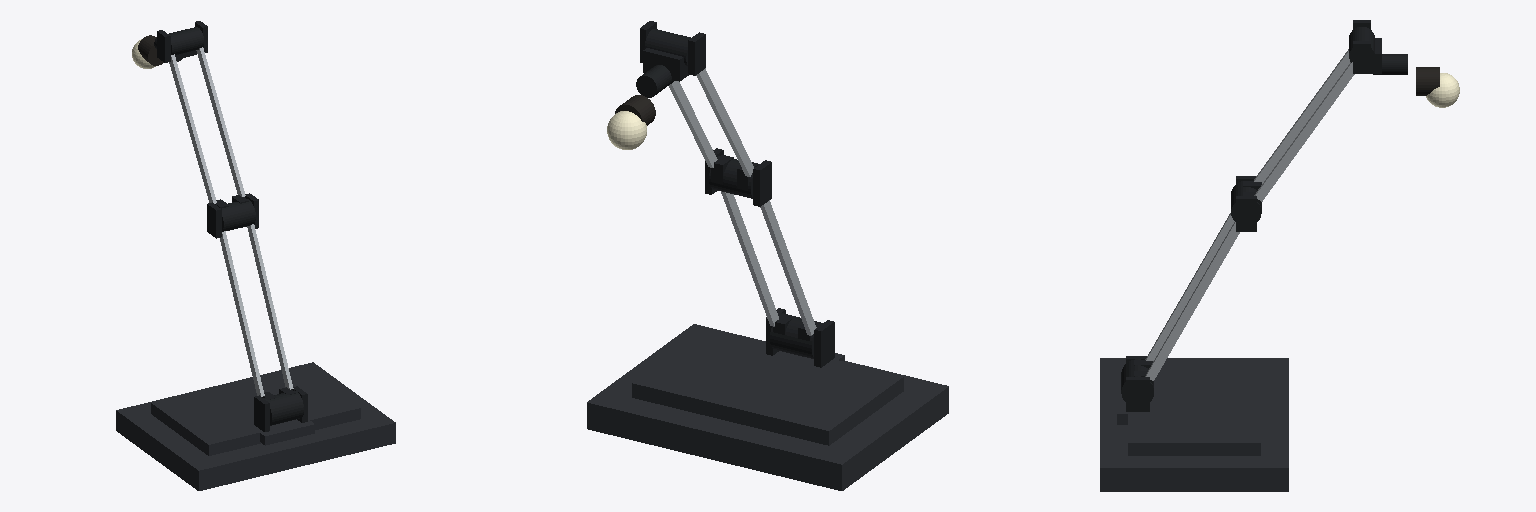
robot.urdf — desk_task_lamp:
<robot name="desk_task_lamp">
  <material name="base_paint">
    <color rgba="0.22 0.23 0.25 1" />
    </material>
  <material name="arm_paint">
    <color rgba="0.7 0.72 0.74 1" />
    </material>
  <material name="hinge_dark">
    <color rgba="0.16 0.17 0.18 1" />
    </material>
  <material name="reflector_white">
    <color rgba="0.93 0.93 0.9 1" />
    </material>
  <material name="socket_dark">
    <color rgba="0.2 0.19 0.18 1" />
    </material>
  <material name="bulb_glass">
    <color rgba="0.95 0.93 0.82 0.55" />
    </material>
  <link name="base">
    <inertial>
      <origin xyz="0 0 0.0175" rpy="0 0 0" />
      <mass value="3.8" />
      <inertia ixx="0.00849458" ixy="0" ixz="0" iyy="0.0157146" iyz="0" izz="0.0234333" />
      </inertial>
    <visual name="weight_block">
      <origin xyz="0 0 0.011" rpy="0 0 0" />
      <geometry>
        <box size="0.22 0.16 0.022" />
        </geometry>
      <material name="base_paint">
        <color rgba="0.22 0.23 0.25 1" />
        </material>
      </visual>
    <visual name="top_plate">
      <origin xyz="0 0 0.028" rpy="0 0 0" />
      <geometry>
        <box size="0.17 0.112 0.012" />
        </geometry>
      <material name="base_paint">
        <color rgba="0.22 0.23 0.25 1" />
        </material>
      </visual>
    <visual name="rear_pedestal">
      <origin xyz="0 -0.048 0.029" rpy="0 0 0" />
      <geometry>
        <box size="0.056 0.036 0.01" />
        </geometry>
      <material name="base_paint">
        <color rgba="0.22 0.23 0.25 1" />
        </material>
      </visual>
    <visual name="hinge_left_cheek">
      <origin xyz="-0.021 -0.048 0.049" rpy="0 0 0" />
      <geometry>
        <box size="0.006 0.02 0.03" />
        </geometry>
      <material name="hinge_dark">
        <color rgba="0.16 0.17 0.18 1" />
        </material>
      </visual>
    <visual name="hinge_right_cheek">
      <origin xyz="0.021 -0.048 0.049" rpy="0 0 0" />
      <geometry>
        <box size="0.006 0.02 0.03" />
        </geometry>
      <material name="hinge_dark">
        <color rgba="0.16 0.17 0.18 1" />
        </material>
      </visual>
    <visual name="bottom_pad">
      <origin xyz="0 0 0.0015" rpy="0 0 0" />
      <geometry>
        <box size="0.12 0.088 0.003" />
        </geometry>
      <material name="hinge_dark">
        <color rgba="0.16 0.17 0.18 1" />
        </material>
      </visual>
    </link>
  <link name="lower_arm">
    <inertial>
      <origin xyz="0 0.0414 0.0756" rpy="0 0 0" />
      <mass value="0.95" />
      <inertia ixx="0.00358229" ixy="0" ixz="0" iyy="0.00299448" iyz="0" izz="0.00115781" />
      </inertial>
    <visual name="rear_hub">
      <origin xyz="0 0 0" rpy="0 1.5708 0" />
      <geometry>
        <cylinder radius="0.014" length="0.036" />
        </geometry>
      <material name="hinge_dark">
        <color rgba="0.16 0.17 0.18 1" />
        </material>
      </visual>
    <visual name="left_root_block">
      <origin xyz="-0.011 0.005 0.006" rpy="0 0 0" />
      <geometry>
        <box size="0.01 0.016 0.016" />
        </geometry>
      <material name="hinge_dark">
        <color rgba="0.16 0.17 0.18 1" />
        </material>
      </visual>
    <visual name="right_root_block">
      <origin xyz="0.011 0.005 0.006" rpy="0 0 0" />
      <geometry>
        <box size="0.01 0.016 0.016" />
        </geometry>
      <material name="hinge_dark">
        <color rgba="0.16 0.17 0.18 1" />
        </material>
      </visual>
    <visual name="left_strut">
      <origin xyz="-0.016 0.051 0.09" rpy="1.08685 0 0" />
      <geometry>
        <box size="0.004 0.176238 0.008" />
        </geometry>
      <material name="arm_paint">
        <color rgba="0.7 0.72 0.74 1" />
        </material>
      </visual>
    <visual name="right_strut">
      <origin xyz="0.016 0.051 0.09" rpy="1.08685 0 0" />
      <geometry>
        <box size="0.004 0.176238 0.008" />
        </geometry>
      <material name="arm_paint">
        <color rgba="0.7 0.72 0.74 1" />
        </material>
      </visual>
    <visual name="elbow_left_cheek">
      <origin xyz="-0.021 0.092 0.168" rpy="0 0 0" />
      <geometry>
        <box size="0.006 0.018 0.03" />
        </geometry>
      <material name="hinge_dark">
        <color rgba="0.16 0.17 0.18 1" />
        </material>
      </visual>
    <visual name="elbow_right_cheek">
      <origin xyz="0.021 0.092 0.168" rpy="0 0 0" />
      <geometry>
        <box size="0.006 0.018 0.03" />
        </geometry>
      <material name="hinge_dark">
        <color rgba="0.16 0.17 0.18 1" />
        </material>
      </visual>
    </link>
  <link name="upper_arm">
    <inertial>
      <origin xyz="0 0.0441 0.0657" rpy="0 0 0" />
      <mass value="0.78" />
      <inertia ixx="0.00255612" ixy="0" ixz="0" iyy="0.00195917" iyz="0" izz="0.00097604" />
      </inertial>
    <visual name="rear_hub">
      <origin xyz="0 0 0" rpy="0 1.5708 0" />
      <geometry>
        <cylinder radius="0.013" length="0.036" />
        </geometry>
      <material name="hinge_dark">
        <color rgba="0.16 0.17 0.18 1" />
        </material>
      </visual>
    <visual name="left_root_block">
      <origin xyz="-0.011 0.005 0.006" rpy="0 0 0" />
      <geometry>
        <box size="0.01 0.016 0.016" />
        </geometry>
      <material name="hinge_dark">
        <color rgba="0.16 0.17 0.18 1" />
        </material>
      </visual>
    <visual name="right_root_block">
      <origin xyz="0.011 0.005 0.006" rpy="0 0 0" />
      <geometry>
        <box size="0.01 0.016 0.016" />
        </geometry>
      <material name="hinge_dark">
        <color rgba="0.16 0.17 0.18 1" />
        </material>
      </visual>
    <visual name="left_strut">
      <origin xyz="-0.016 0.054 0.079" rpy="0.989714 0 0" />
      <geometry>
        <box size="0.004 0.160312 0.008" />
        </geometry>
      <material name="arm_paint">
        <color rgba="0.7 0.72 0.74 1" />
        </material>
      </visual>
    <visual name="right_strut">
      <origin xyz="0.016 0.054 0.079" rpy="0.989714 0 0" />
      <geometry>
        <box size="0.004 0.160312 0.008" />
        </geometry>
      <material name="arm_paint">
        <color rgba="0.7 0.72 0.74 1" />
        </material>
      </visual>
    <visual name="shade_left_cheek">
      <origin xyz="-0.021 0.098 0.146" rpy="0 0 0" />
      <geometry>
        <box size="0.006 0.016 0.028" />
        </geometry>
      <material name="hinge_dark">
        <color rgba="0.16 0.17 0.18 1" />
        </material>
      </visual>
    <visual name="shade_right_cheek">
      <origin xyz="0.021 0.098 0.146" rpy="0 0 0" />
      <geometry>
        <box size="0.006 0.016 0.028" />
        </geometry>
      <material name="hinge_dark">
        <color rgba="0.16 0.17 0.18 1" />
        </material>
      </visual>
    </link>
  <link name="shade">
    <inertial>
      <origin xyz="0 0.056 -0.032" rpy="0 0 0" />
      <mass value="0.55" />
      <inertia ixx="0.00114583" ixy="0" ixz="0" iyy="0.00114583" iyz="0" izz="0.00154917" />
      </inertial>
    <visual name="tilt_hub">
      <origin xyz="0 0 0" rpy="0 1.5708 0" />
      <geometry>
        <cylinder radius="0.011" length="0.036" />
        </geometry>
      <material name="hinge_dark">
        <color rgba="0.16 0.17 0.18 1" />
        </material>
      </visual>
    <visual name="mount_block">
      <origin xyz="0 0.008 -0.008" rpy="0 0 0" />
      <geometry>
        <box size="0.032 0.018 0.018" />
        </geometry>
      <material name="hinge_dark">
        <color rgba="0.16 0.17 0.18 1" />
        </material>
      </visual>
    <visual name="neck_tube">
      <origin xyz="0 0.024 -0.016" rpy="-1.5708 0 0" />
      <geometry>
        <cylinder radius="0.009" length="0.03" />
        </geometry>
      <material name="hinge_dark">
        <color rgba="0.16 0.17 0.18 1" />
        </material>
      </visual>
    <visual name="reflector_shell">
      <origin xyz="0 0.034 -0.018" rpy="-2.1908 0 0" />
      <geometry>
        <mesh filename="assets/meshes/desk_task_lamp_reflector.obj" />
        </geometry>
      <material name="reflector_white">
        <color rgba="0.93 0.93 0.9 1" />
        </material>
      </visual>
    <visual name="socket">
      <origin xyz="0 0.056 -0.032" rpy="-1.5708 0 0" />
      <geometry>
        <cylinder radius="0.012" length="0.02" />
        </geometry>
      <material name="socket_dark">
        <color rgba="0.2 0.19 0.18 1" />
        </material>
      </visual>
    <visual name="bulb">
      <origin xyz="0 0.068 -0.04" rpy="0 0 0" />
      <geometry>
        <sphere radius="0.015" />
        </geometry>
      <material name="bulb_glass">
        <color rgba="0.95 0.93 0.82 0.55" />
        </material>
      </visual>
    </link>
  <joint name="base_to_lower_arm" type="revolute">
    <origin xyz="0 -0.048 0.05" rpy="0 0 0" />
    <parent link="base" />
    <child link="lower_arm" />
    <axis xyz="1 0 0" />
    <limit effort="12" velocity="1.8" lower="-0.55" upper="0.58" />
    </joint>
  <joint name="lower_to_upper_arm" type="revolute">
    <origin xyz="0 0.092 0.168" rpy="0 0 0" />
    <parent link="lower_arm" />
    <child link="upper_arm" />
    <axis xyz="1 0 0" />
    <limit effort="10" velocity="2.2" lower="-1.1" upper="1" />
    </joint>
  <joint name="upper_to_shade" type="revolute">
    <origin xyz="0 0.098 0.146" rpy="0 0 0" />
    <parent link="upper_arm" />
    <child link="shade" />
    <axis xyz="1 0 0" />
    <limit effort="6" velocity="2.8" lower="-0.95" upper="0.75" />
    </joint>
  </robot>

--- What the picture shows (computed from the rendered views, not written in the file) ---
Views: 3 orthographic renders of the robot side by side, from view 1: azimuth 30°, elevation 25°; view 2: azimuth 150°, elevation 25°; view 3: azimuth 270°, elevation 25°.
Model desk_task_lamp with 4 links and 3 joints (3 revolute), rooted at base, posed every joint at zero.
Links seen in each view (by area): view 1: base, lower_arm, upper_arm, shade; view 2: base, lower_arm, upper_arm, shade; view 3: base, lower_arm, upper_arm, shade.
Boxes of the visible links, box(x1,y1,x2,y2) form: base: box(116, 362, 395, 490); lower_arm: box(207, 193, 303, 425); upper_arm: box(157, 21, 255, 231); shade: box(132, 27, 203, 68); base: box(587, 308, 948, 490); lower_arm: box(705, 148, 822, 358); upper_arm: box(640, 21, 758, 198); shade: box(607, 29, 690, 149); base: box(1100, 356, 1288, 491); lower_arm: box(1121, 176, 1256, 401); upper_arm: box(1231, 20, 1370, 221); shade: box(1349, 27, 1459, 107).
Size in the robot's own frame: 0.22 by 0.305 by 0.378 metres.
0 mesh visuals loaded from 1 distinct referenced files (none loaded); not drawn: 1 (reference not matched to a file when rendering).
